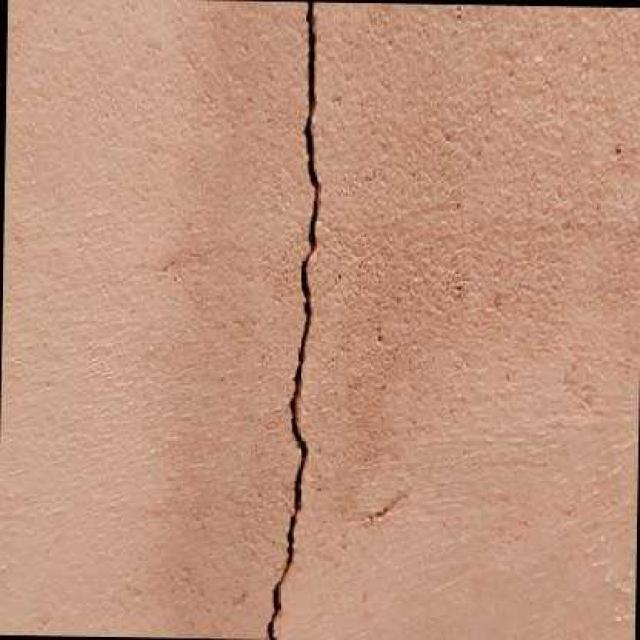D00: (266, 0, 319, 639)
